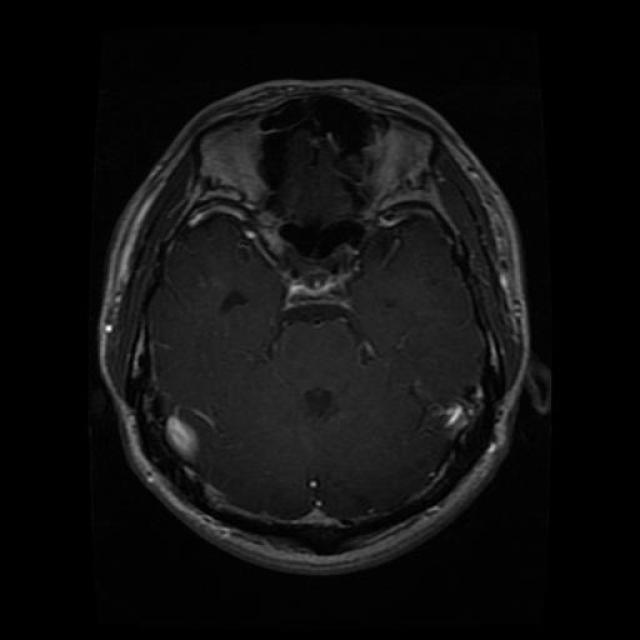glioma: (246, 224, 382, 332)
